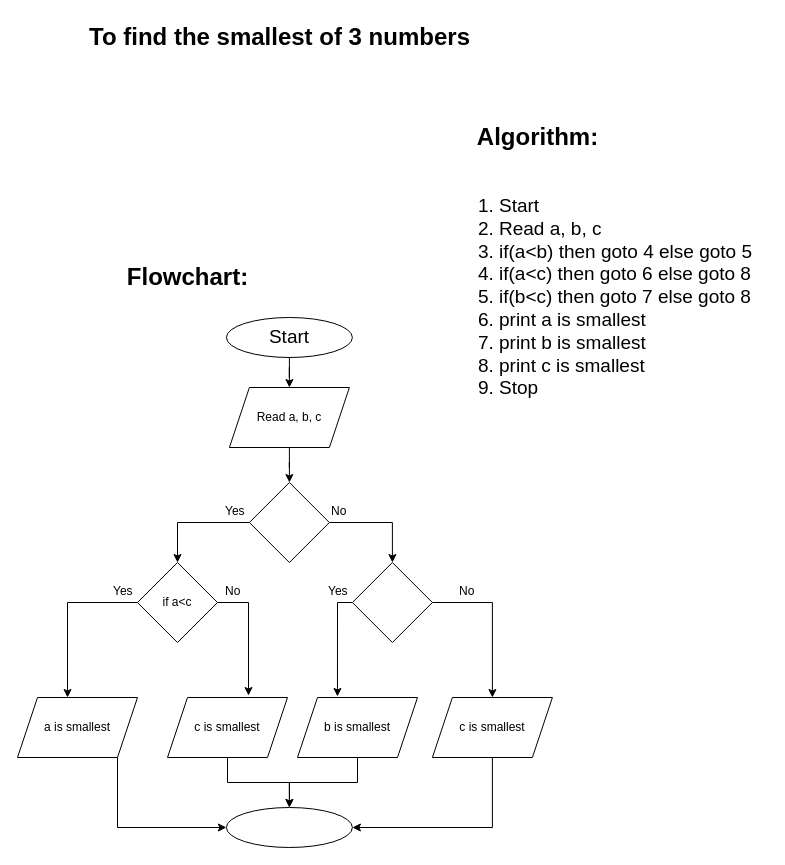
Some shapes in this 785 by 865 pixel diagram are drawn without their labels. Each missing label, with the centre of its shape:
End: the point at 288,827
if a<b: the point at 288,522
if b<c: the point at 391,602
